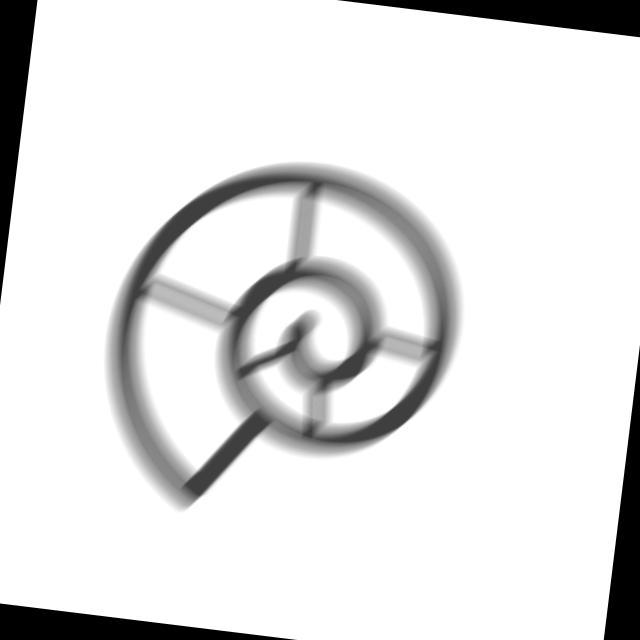fossil: (79, 133, 488, 551)
